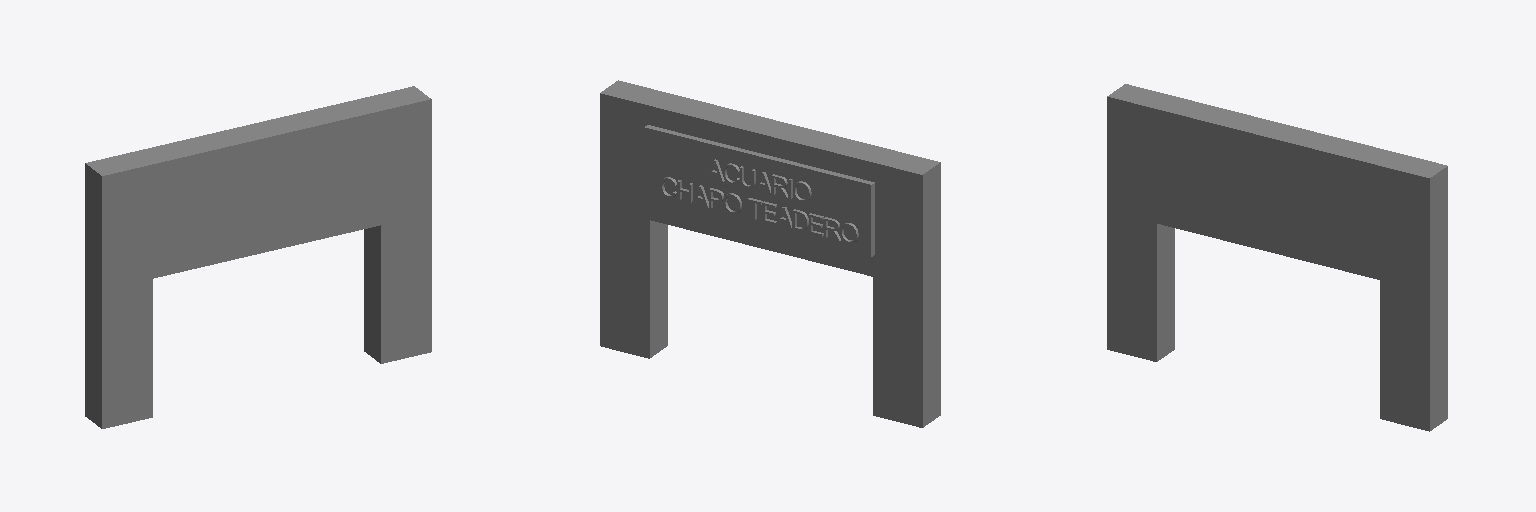
File: Acceso.obj
3 renders of one model, left to right at view 1: azimuth 30°, elevation 25°; view 2: azimuth 150°, elevation 25°; view 3: azimuth 330°, elevation 25°, orthographic.
Parts seen in each view (by area): view 1: C_Ext001; view 2: C_Ext001, Box002, Text001; view 3: C_Ext001.
Boxes of the visible parts, box(x1,y1,x2,y2) form: C_Ext001: box(85, 86, 431, 428); C_Ext001: box(600, 80, 940, 427); Box002: box(644, 125, 874, 256); Text001: box(660, 159, 858, 243); C_Ext001: box(1107, 84, 1447, 431).
Size of the model in its own units: 1158 by 858 by 158.